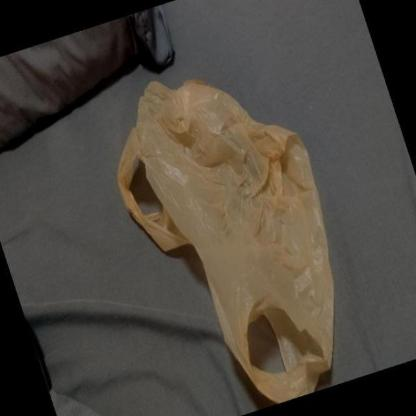Plastic Bag: (117, 78, 337, 404)
